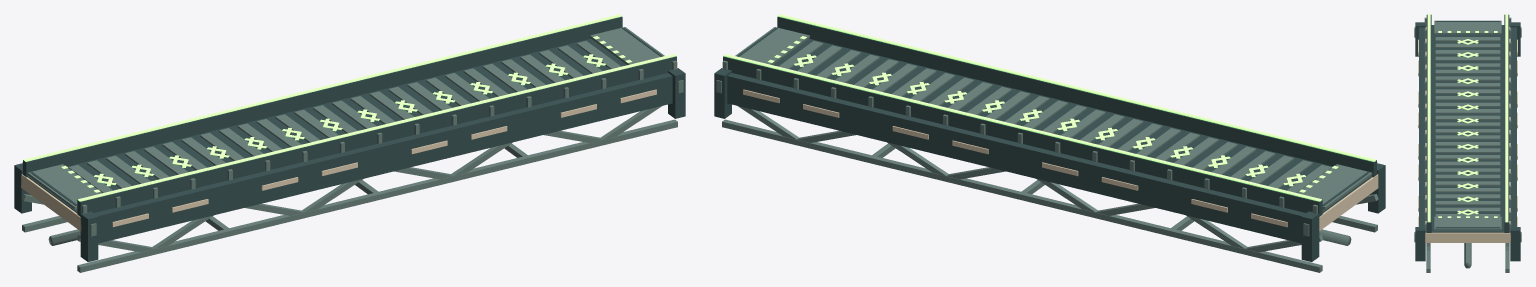
Rendered from Deck_Conveyor_Belt_v4_16.glb.
3 views of the same model, side by side, from view 1: azimuth 30°, elevation 25°; view 2: azimuth 150°, elevation 25°; view 3: azimuth 270°, elevation 25° (orthographic). The views are drawn at different scales.
Visible parts, largest first — view 1: Deck_Conveyor_Belt_v4_16, Treads, TreadsRev; view 2: Deck_Conveyor_Belt_v4_16, Treads, TreadsRev; view 3: Deck_Conveyor_Belt_v4_16, Treads, TreadsRev.
Part boxes in pixels (box(x1,y1,x2,y2)): Deck_Conveyor_Belt_v4_16: box(14, 14, 685, 272); Treads: box(68, 41, 620, 192); TreadsRev: box(68, 41, 620, 192); Deck_Conveyor_Belt_v4_16: box(714, 14, 1385, 272); Treads: box(779, 41, 1331, 192); TreadsRev: box(779, 41, 1330, 192); Deck_Conveyor_Belt_v4_16: box(1414, 14, 1521, 272); Treads: box(1435, 37, 1500, 216); TreadsRev: box(1435, 37, 1500, 216).
Bounding box in the file's own units: 16.05 × 1.83 × 3.48.
